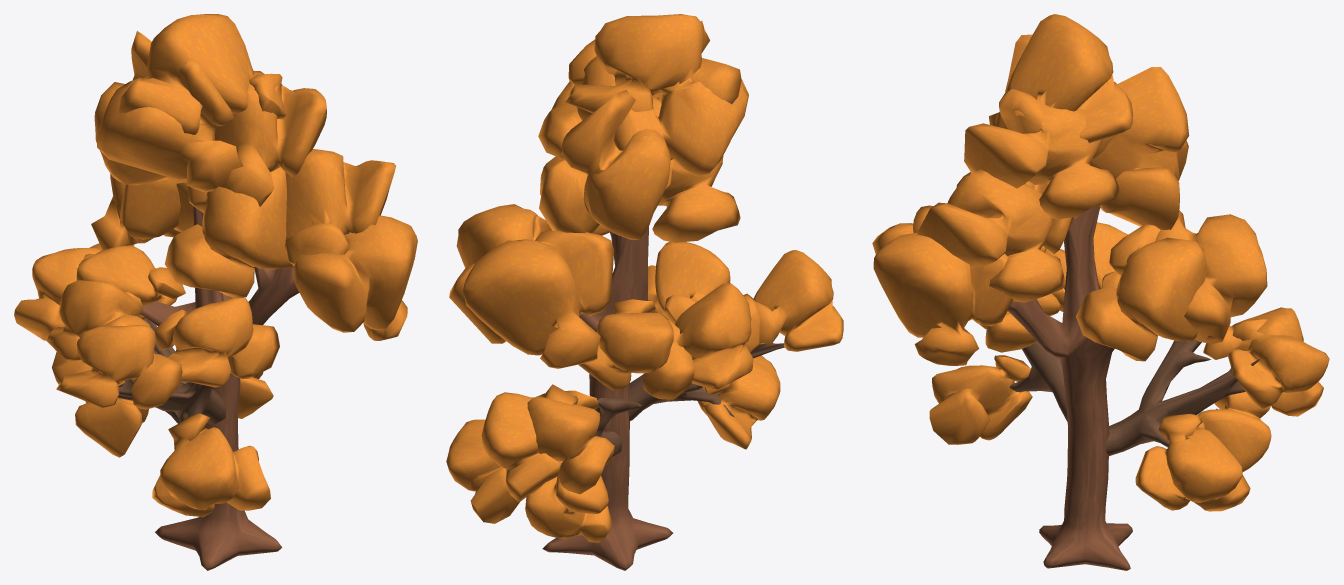
The model's file is Tree11.fbx.
The picture shows the model from 3 angles, left to right: view 1: azimuth 30°, elevation 25°; view 2: azimuth 150°, elevation 25°; view 3: azimuth 270°, elevation 25°; orthographic projection. The views are drawn at different scales.
Visible parts, largest first — view 1: Tree11; view 2: Tree11; view 3: Tree11.
Part boxes in pixels (left/top/right/bottom): Tree11: left=14, top=14, right=417, bottom=570; Tree11: left=446, top=14, right=843, bottom=570; Tree11: left=872, top=14, right=1329, bottom=570.
Size of the model in its own units: 8 by 13.13 by 10.66.
